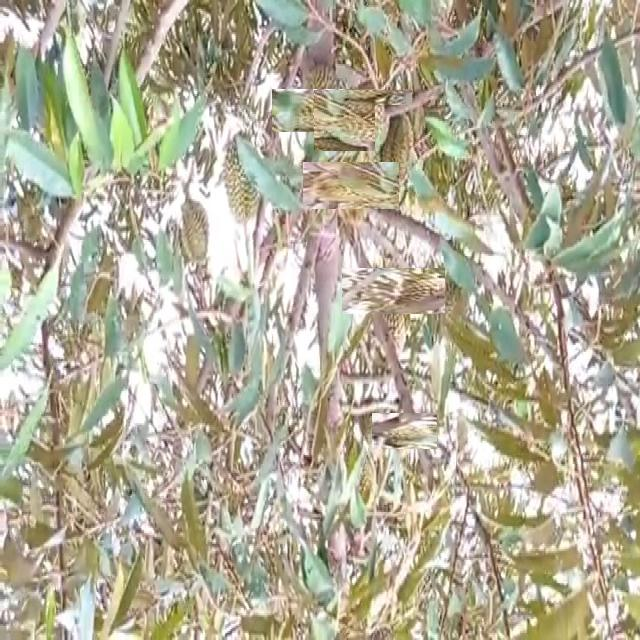durian: (323, 81, 403, 161), (356, 254, 430, 328), (286, 74, 360, 147), (315, 150, 387, 222), (375, 105, 418, 202), (220, 121, 262, 217), (379, 406, 429, 456), (178, 195, 212, 268), (356, 397, 391, 466)
